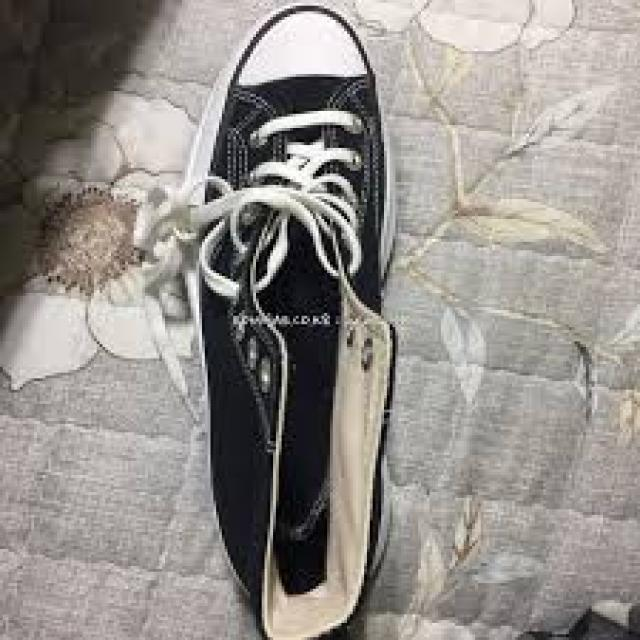shoe: (169, 7, 410, 623)
